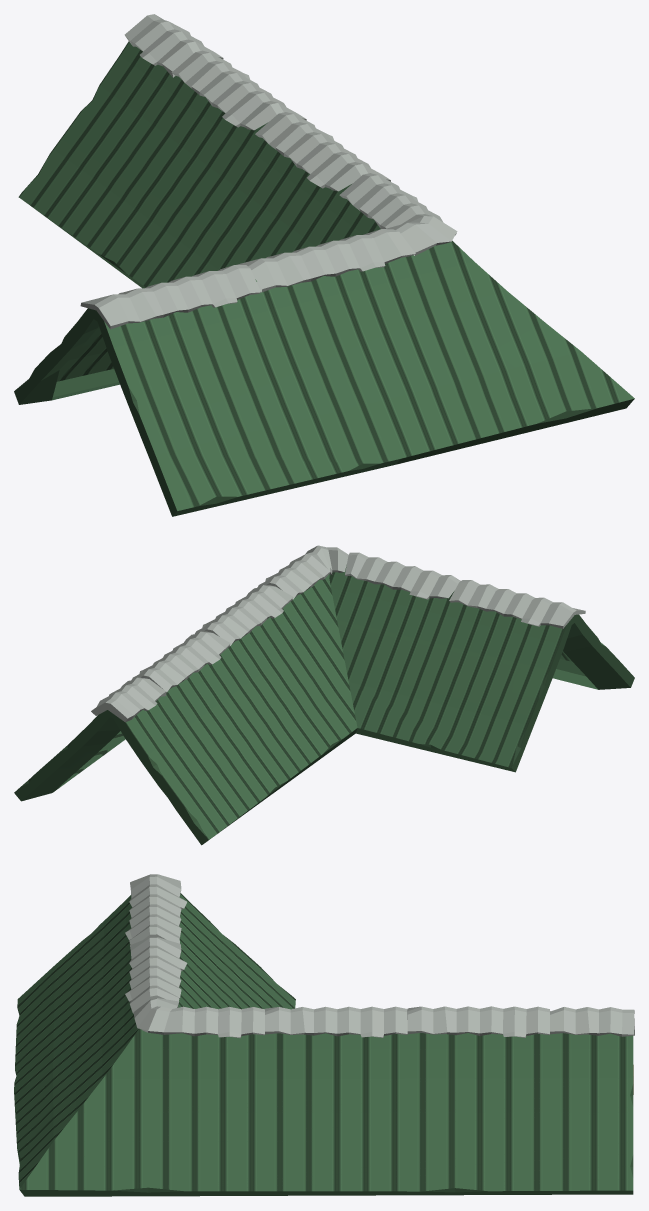
Rendered from SM_Env_Roof_15.fbx.
3 views of the same model, one above another, from view 1: azimuth 30°, elevation 25°; view 2: azimuth 150°, elevation 25°; view 3: azimuth 270°, elevation 25° (orthographic). The views are drawn at different scales.
Visible parts, largest first — view 1: SM_Env_Roof_15; view 2: SM_Env_Roof_15; view 3: SM_Env_Roof_15.
Boxes of the visible parts, bbox=[...] form: SM_Env_Roof_15: bbox=[14, 14, 634, 516]; SM_Env_Roof_15: bbox=[14, 545, 634, 845]; SM_Env_Roof_15: bbox=[14, 874, 634, 1196].
Size of the model in its own units: 389 by 131 by 530.
1 material, 1 textured.
